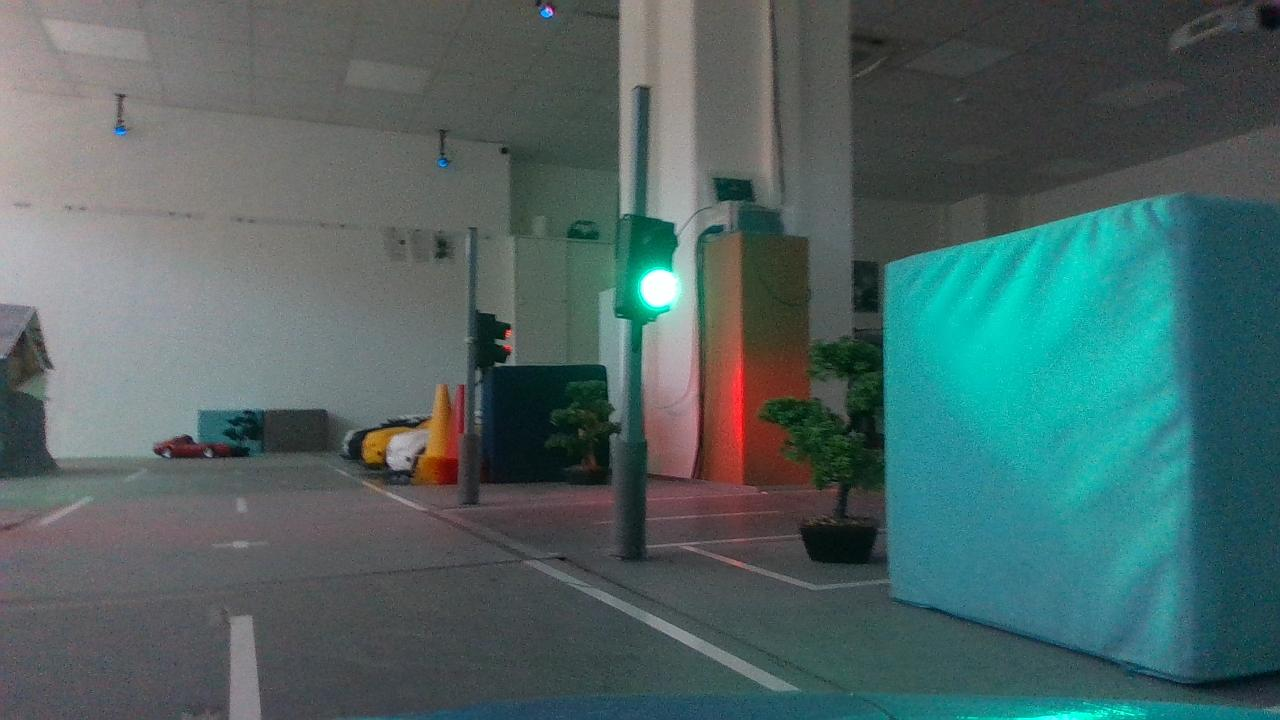traffic_light_green: (598, 200, 692, 334)
